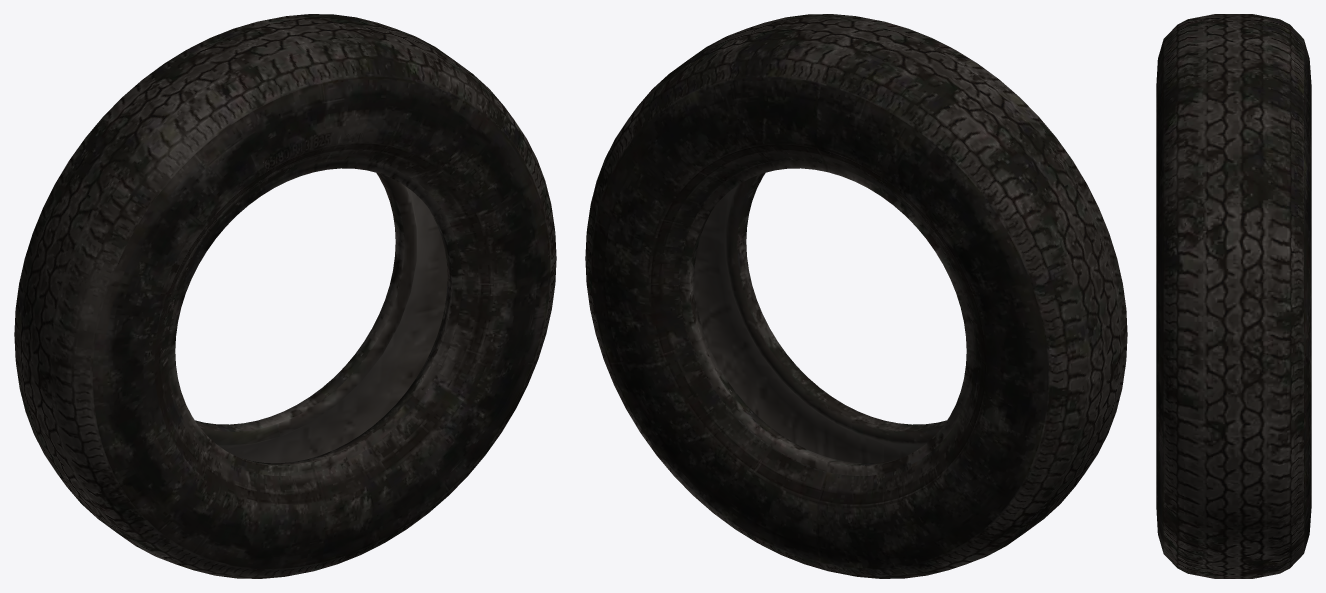
File: old_tyre.gltf
3 views of the same model, side by side, from view 1: azimuth 30°, elevation 25°; view 2: azimuth 150°, elevation 25°; view 3: azimuth 270°, elevation 25° (orthographic). The views are drawn at different scales.
Visible parts, largest first — view 1: old_tyre; view 2: old_tyre; view 3: old_tyre.
Part boxes in pixels (x1=…): old_tyre: x1=14, y1=14, x2=556, y2=578; old_tyre: x1=585, y1=14, x2=1127, y2=578; old_tyre: x1=1156, y1=14, x2=1311, y2=578.
Size of the model in its own units: 0.6 by 0.6 by 0.165.
1 material, 1 textured.
